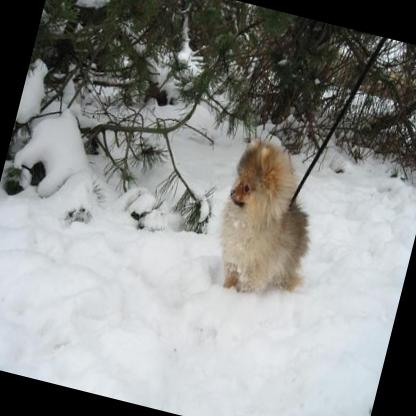Pomeranian: (200, 131, 334, 307)
